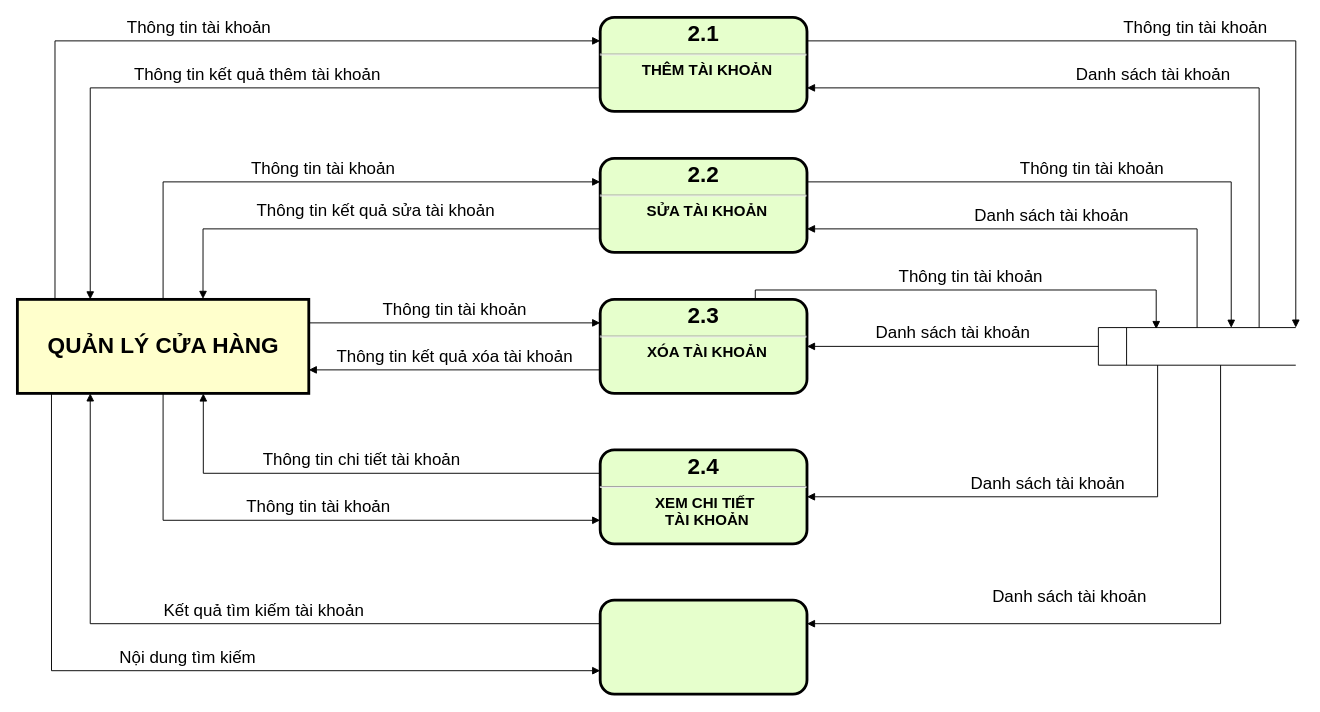
The diagram is 1320 pixels wide and 712 high, and some of its shapes have lost their labels. Each missing label, with the centre of its shape:
"2.5 TÌM TÀI KHOẢN" belongs at (x=703, y=646).
"tài khoản" belongs at (x=1196, y=346).
